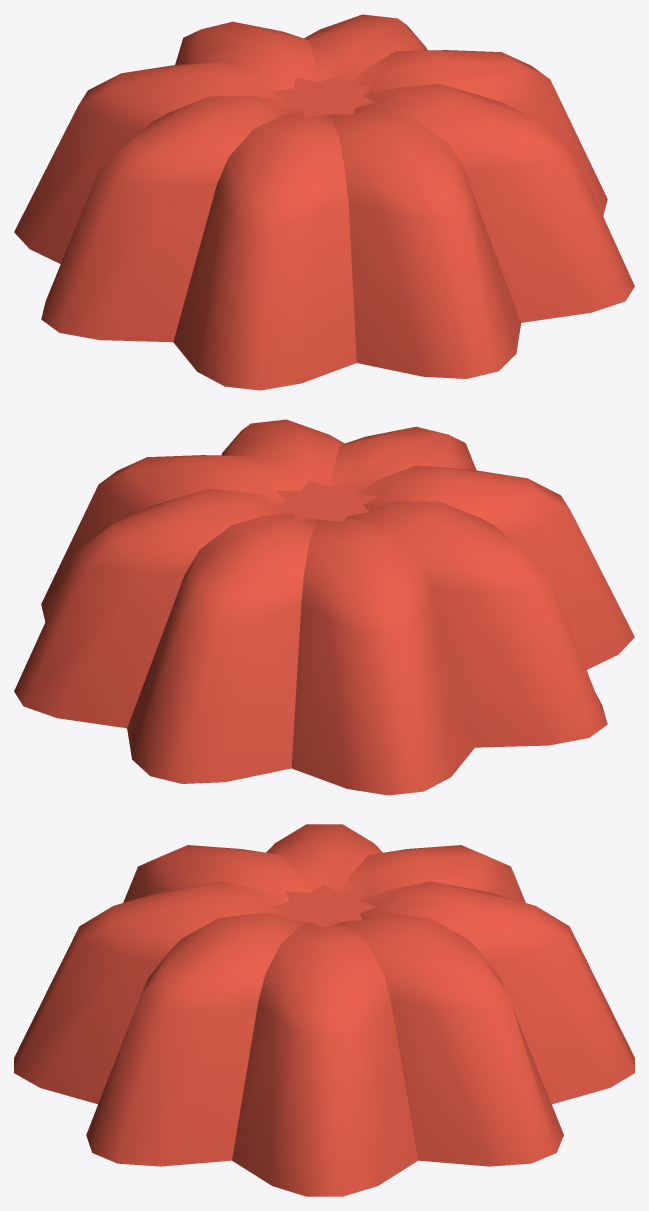
Rendered from JelloAnimated.fbx.
The picture shows the model from 3 angles, top to bottom: view 1: azimuth 30°, elevation 25°; view 2: azimuth 150°, elevation 25°; view 3: azimuth 270°, elevation 25°; orthographic projection.
Visible parts, largest first — view 1: SM_Jello; view 2: SM_Jello; view 3: SM_Jello.
Boxes of the visible parts, x1,y1,x2,y2 form: SM_Jello: (14,14,634,390); SM_Jello: (14,419,634,795); SM_Jello: (14,824,634,1196).
Bounding box in the file's own units: 320 × 98.19 × 320.
